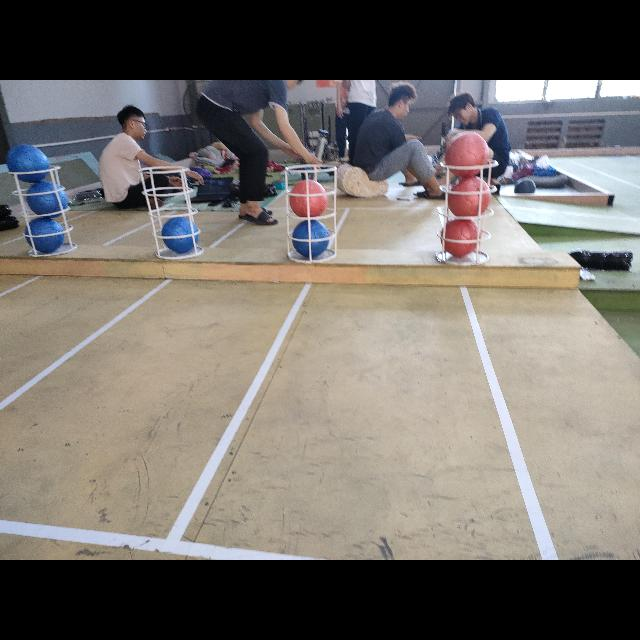B: (4, 144, 52, 182), (292, 219, 331, 259), (24, 215, 64, 252), (27, 182, 69, 216), (162, 218, 198, 255)
R: (445, 132, 489, 176), (288, 179, 328, 219), (448, 181, 492, 217), (439, 220, 479, 258)
